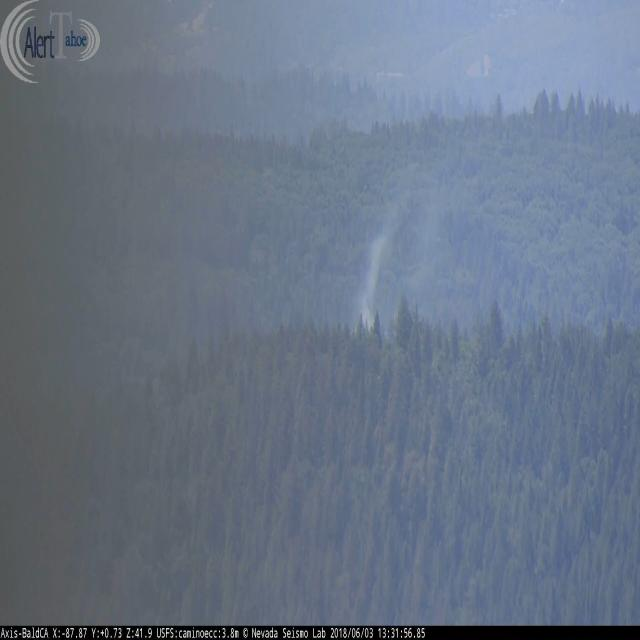smoke: (353, 232, 388, 331)
